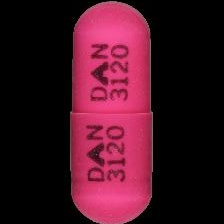49999-290: (0, 0, 224, 224)
